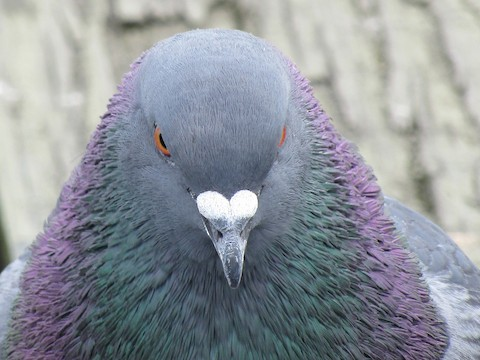pigeon: (14, 19, 466, 346)
